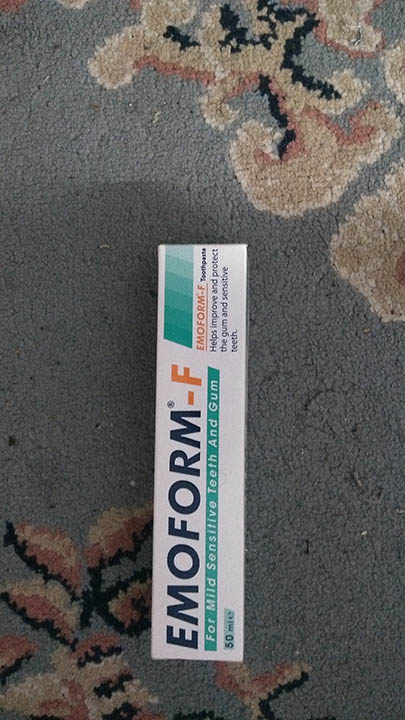Toothpaste-F 1.5$: (149, 236, 260, 672)
